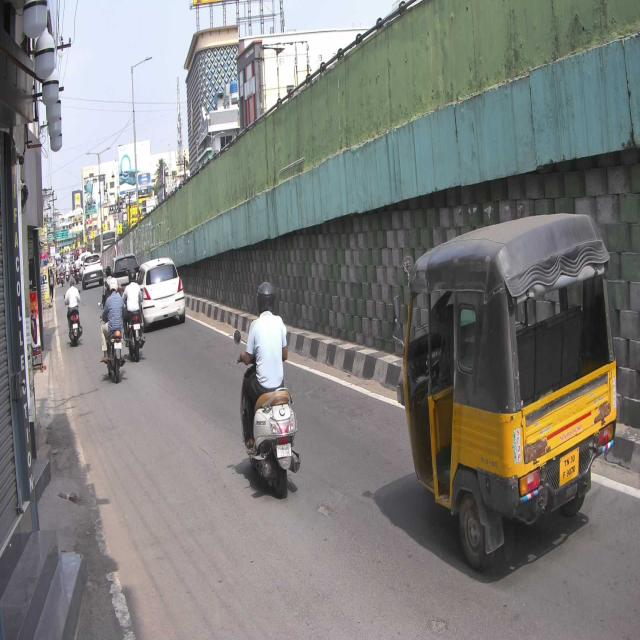single_rider: (232, 279, 303, 497)
